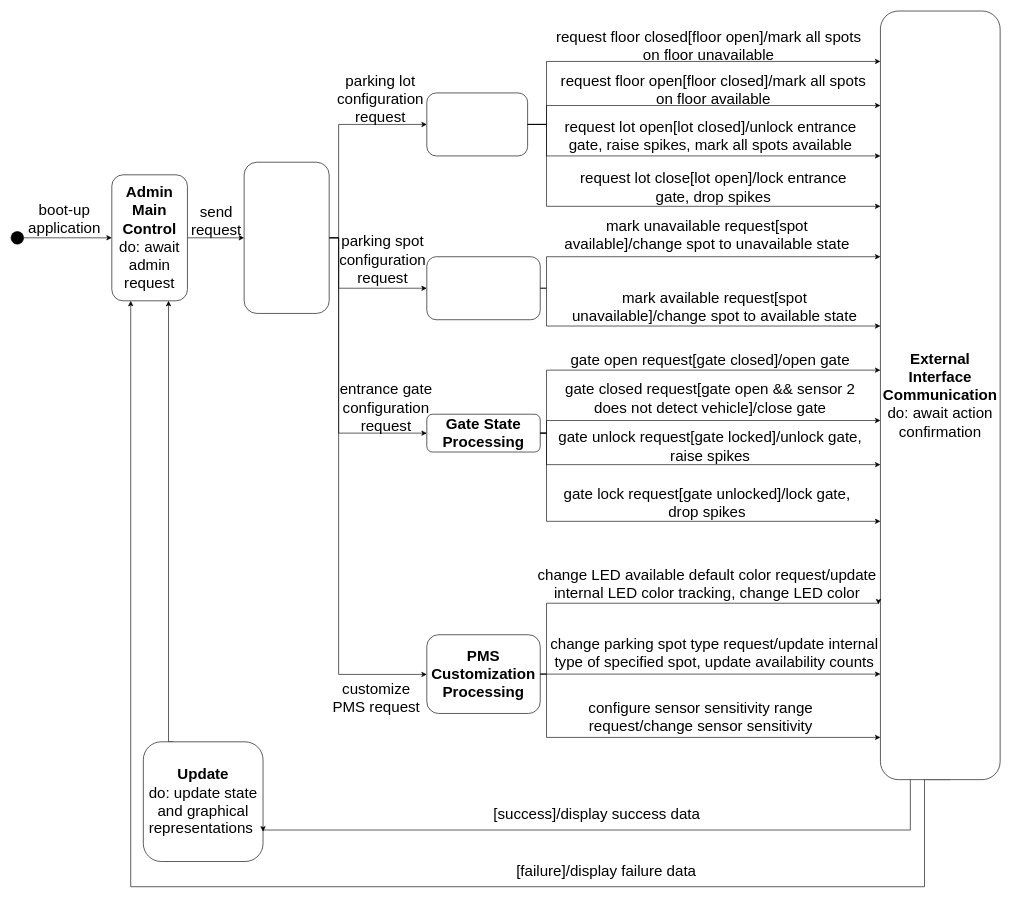
This 1011x903 diagram has some shape labels left out. The shapes that lost their labels are listed below. From the top down, each one's box as (x1, y1, x2, y2) in pixels, then its label:
(426, 92, 528, 156): Parking Lot State Processing
(243, 162, 329, 313): PMS Processing do: determine request type
(426, 256, 540, 320): Parking Spot State Processing
